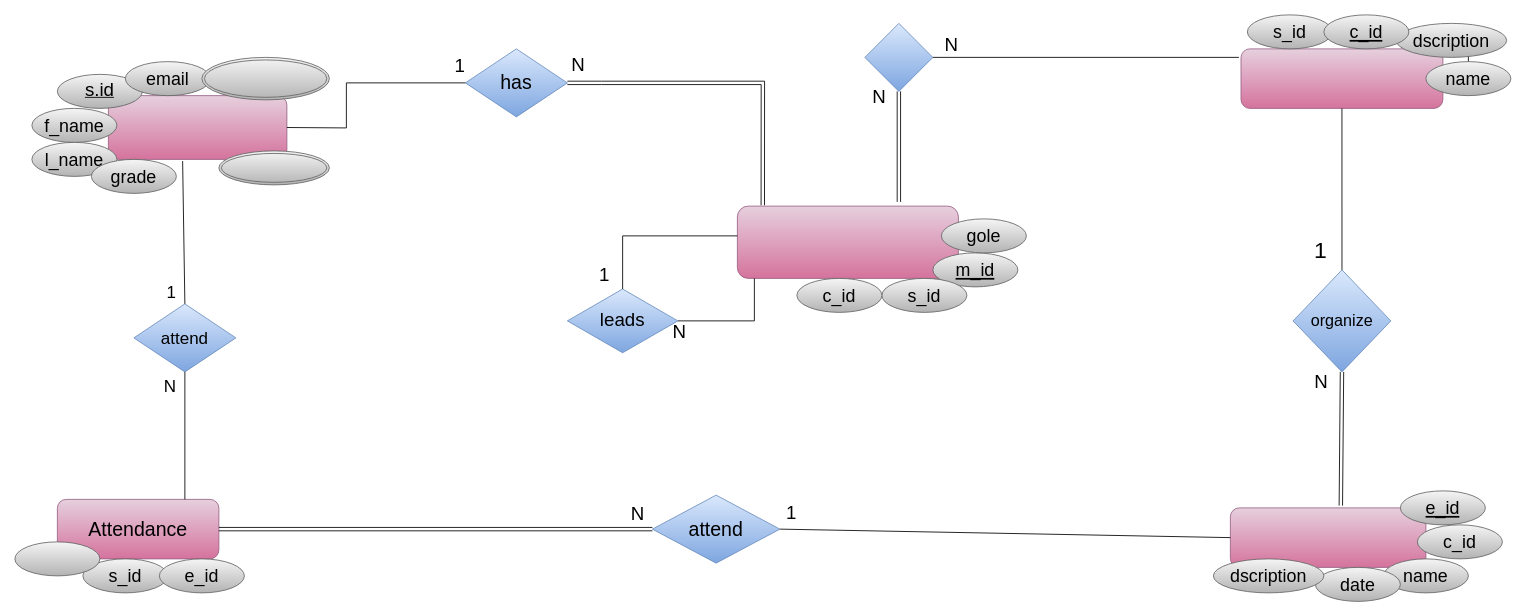
The diagram is 1526 pixels wide and 616 high, and some of its shapes have lost their labels. Here are the shapes that lost their labels. From the top down, the centre of each, then its label:
pixel 898 57: in
pixel 265 78: phone_num
pixel 1341 78: Clubs
pixel 197 127: Students
pixel 273 167: address
pixel 847 241: Membership
pixel 1328 537: Events
pixel 57 558: a_id
